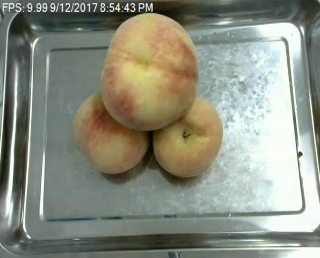Peach: (103, 12, 197, 131), (70, 90, 147, 174), (150, 93, 223, 180)
